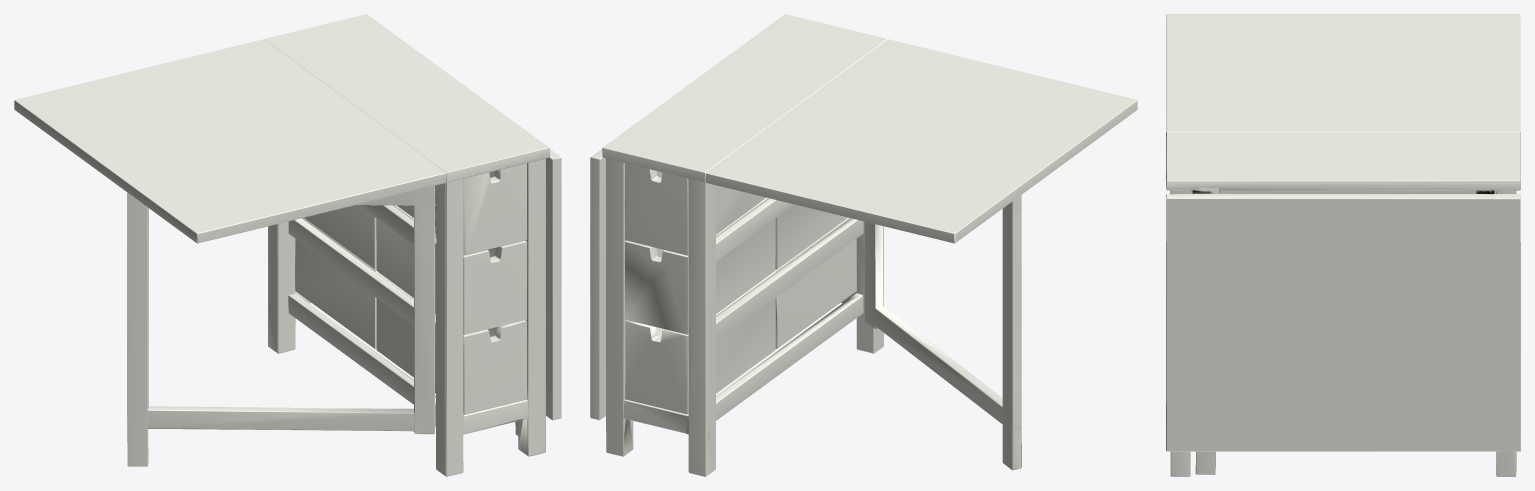
3 views of the same model, side by side, from view 1: azimuth 30°, elevation 25°; view 2: azimuth 150°, elevation 25°; view 3: azimuth 270°, elevation 25° (orthographic). The views are drawn at different scales.
Visible parts, largest first — view 1: ProcessedMeshNode; view 2: ProcessedMeshNode; view 3: ProcessedMeshNode.
Part boxes in pixels (x1,y1,x2,y2): ProcessedMeshNode: (14,14,561,476); ProcessedMeshNode: (590,14,1137,476); ProcessedMeshNode: (1166,14,1520,476).
Bounding box in the file's own units: 0.9218 × 0.7403 × 0.8003.
Materials: 1 (1 with a texture image).
